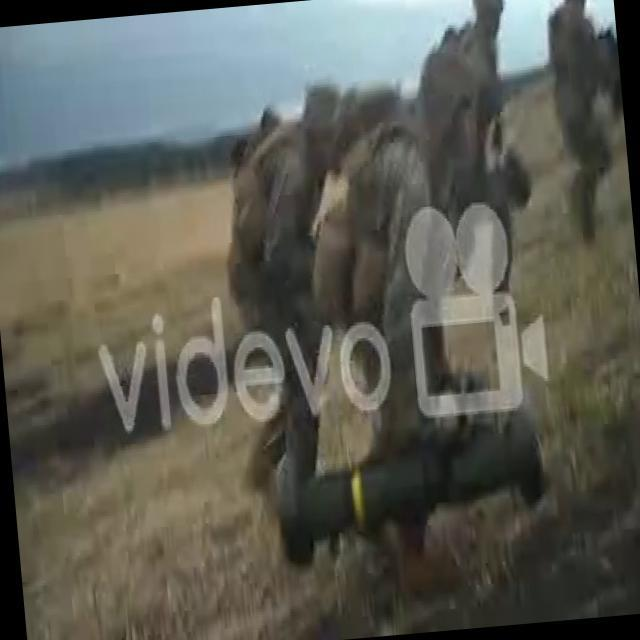rocket: (274, 414, 550, 570)
